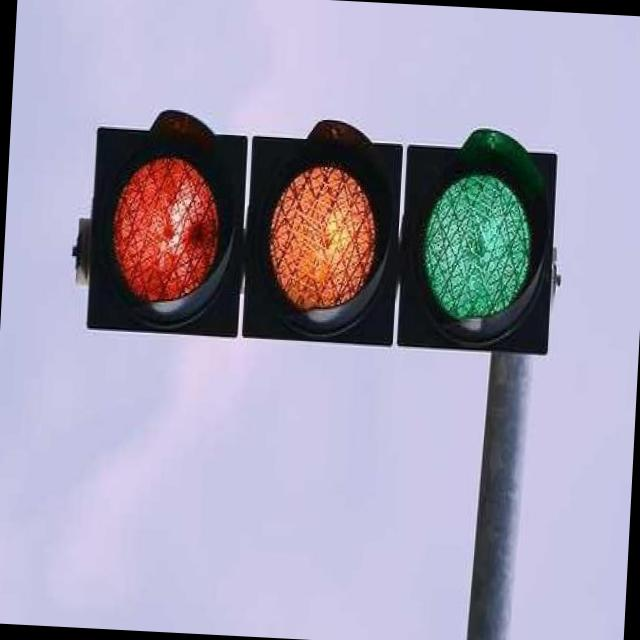green-lights: (398, 140, 557, 345)
red-lights: (90, 138, 239, 322)
yellow-lights: (240, 140, 396, 336)
